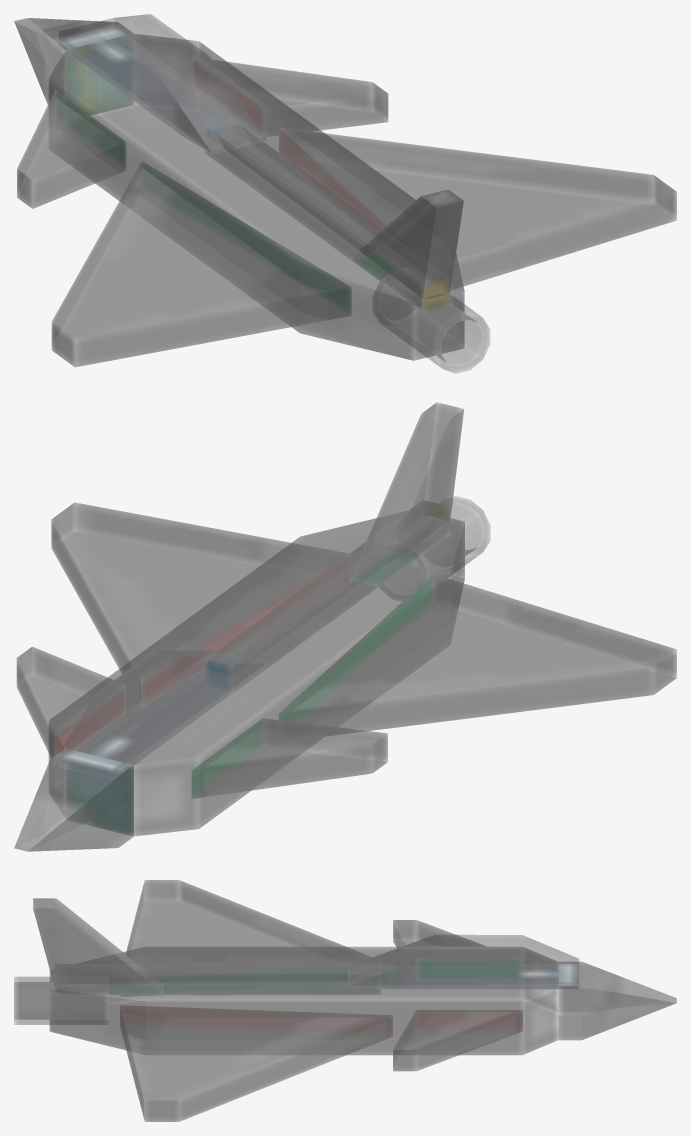
File: Low-poly_Gripen_Fighter_Jet.glb
The picture shows the model from 3 angles, top to bottom: view 1: azimuth 30°, elevation 25°; view 2: azimuth 150°, elevation 25°; view 3: azimuth 270°, elevation 25°; orthographic projection. The views are drawn at different scales.
Parts seen in each view (by area): view 1: unnamed (×10); view 2: unnamed (×10); view 3: unnamed (×10).
Boxes of the visible parts, <box> form: unnamed (×10): <box>14,14,676,373</box>; unnamed (×10): <box>14,402,676,851</box>; unnamed (×10): <box>14,880,676,1121</box>.
Size of the model in its own units: 2.75 by 0.7241 by 3.5.
Materials: 1 (1 with a texture image).
